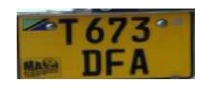T: (56, 18, 80, 46)
